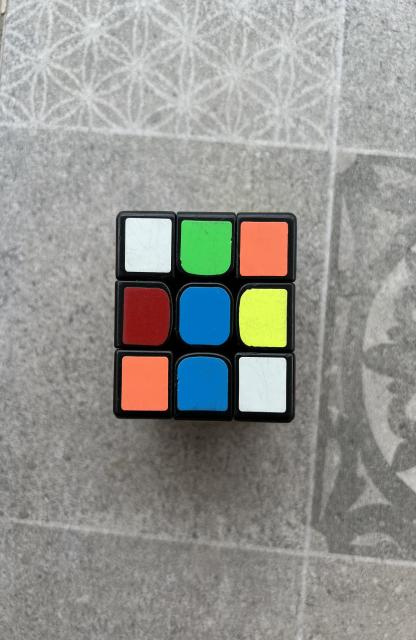Blue: (179, 286, 231, 345), (178, 356, 229, 411)
Green: (180, 220, 232, 275)
Orange: (239, 221, 288, 276), (121, 356, 168, 411)
Red: (122, 288, 170, 345)
White: (238, 356, 287, 412), (125, 218, 172, 272)
Yellow: (238, 289, 287, 348)
